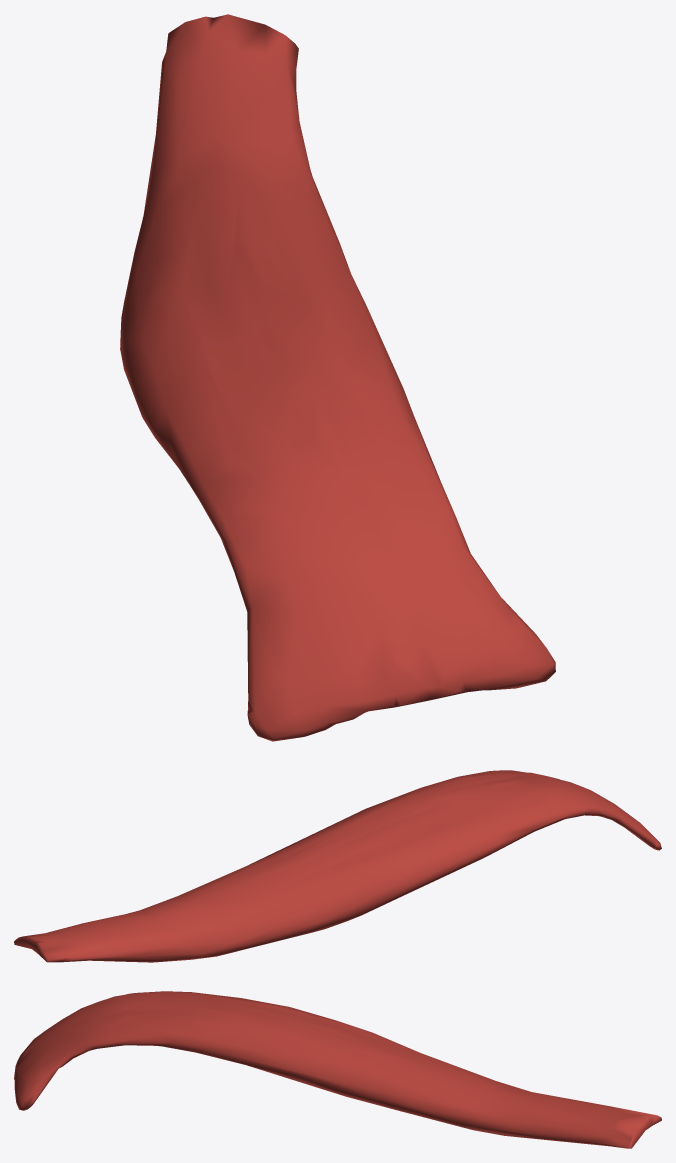
File: musculos-superior-rectus-muscle-r.glb
3 renders of one model, top to bottom at view 1: azimuth 30°, elevation 25°; view 2: azimuth 150°, elevation 25°; view 3: azimuth 270°, elevation 25°, orthographic. The views are drawn at different scales.
Visible parts, largest first — view 1: Superior rectus muscle.r; view 2: Superior rectus muscle.r; view 3: Superior rectus muscle.r.
Boxes of the visible parts, <box> form: Superior rectus muscle.r: <box>120,14,555,741</box>; Superior rectus muscle.r: <box>14,770,661,962</box>; Superior rectus muscle.r: <box>14,991,661,1148</box>.
Size of the model in its own units: 0.0229 by 0.00645 by 0.0406.
